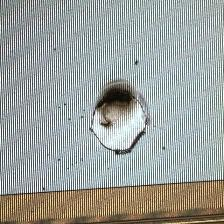PO CONTAMINATION: (81, 82, 157, 158)
